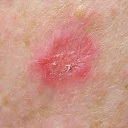Carcinoma: (35, 50, 82, 78)
